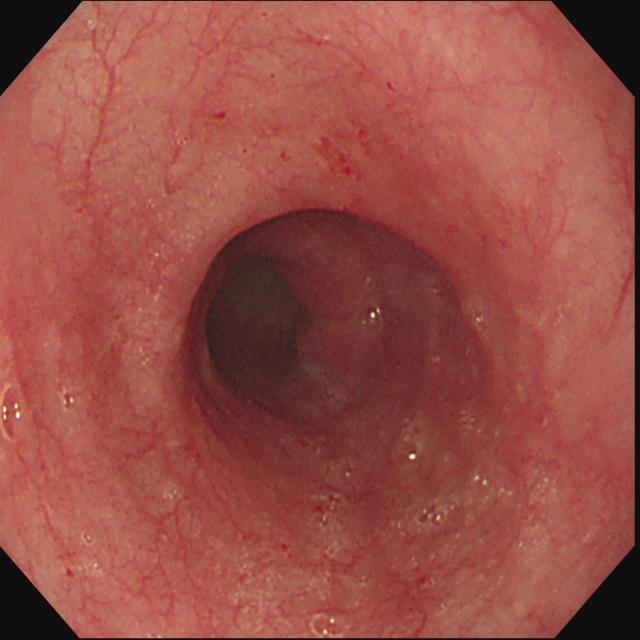A: (272, 106, 382, 189)
E: (191, 236, 316, 419)
T: (314, 459, 355, 527), (394, 413, 427, 466), (2, 384, 27, 444), (414, 496, 461, 527), (310, 610, 346, 637), (59, 385, 82, 415)
